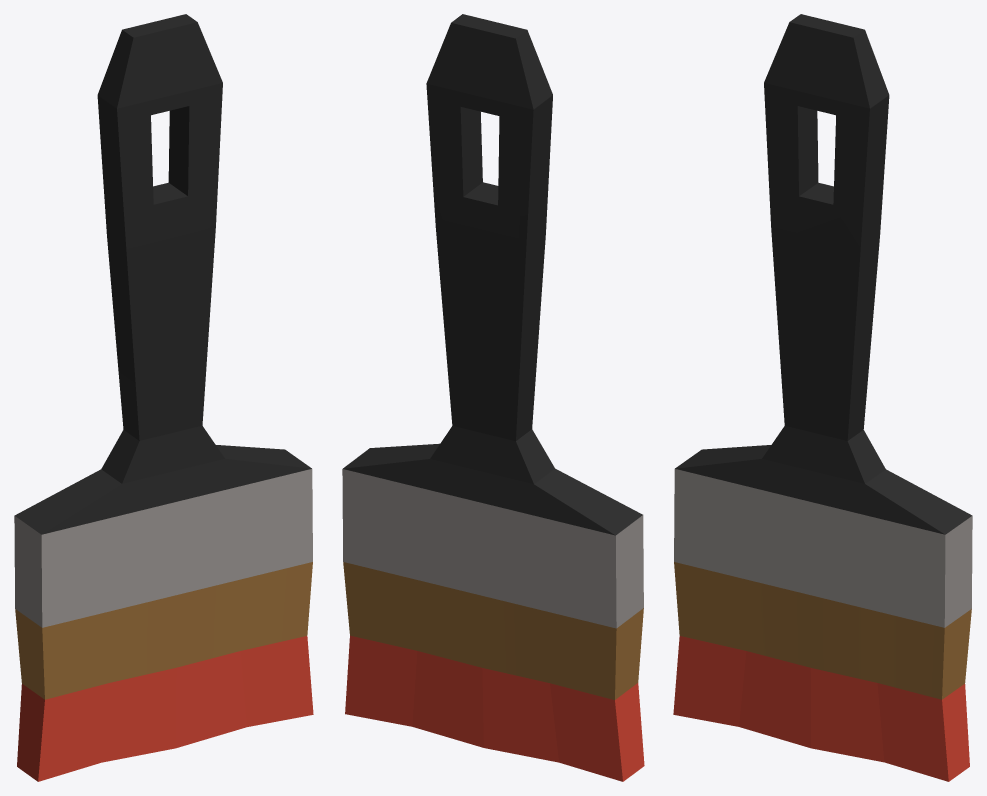
The model's file is tools_brush-straight-wide-paint.fbx.
3 views of the same model, side by side, from view 1: azimuth 30°, elevation 25°; view 2: azimuth 150°, elevation 25°; view 3: azimuth 330°, elevation 25° (orthographic).
Parts seen in each view (by area): view 1: tools_brush_straight_wide_paint; view 2: tools_brush_straight_wide_paint; view 3: tools_brush_straight_wide_paint.
Part boxes in pixels (x1=…): tools_brush_straight_wide_paint: x1=14, y1=14, x2=313, y2=781; tools_brush_straight_wide_paint: x1=342, y1=14, x2=644, y2=781; tools_brush_straight_wide_paint: x1=673, y1=14, x2=972, y2=781.
Size of the model in its own units: 81.05 by 200 by 14.19.
